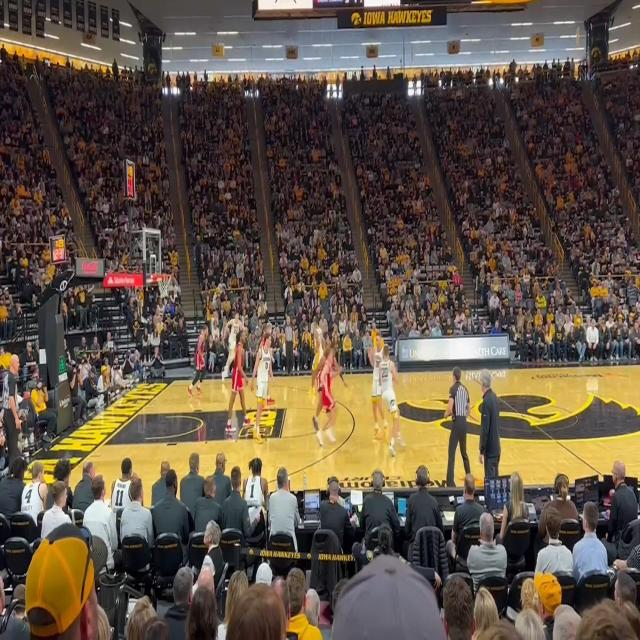Hoop: (156, 274, 172, 298)
Player: (311, 342, 347, 432), (378, 344, 406, 457), (250, 333, 275, 445), (225, 330, 250, 432), (368, 330, 390, 441), (316, 348, 336, 446), (221, 311, 245, 383), (187, 326, 207, 397), (259, 312, 275, 392), (308, 318, 324, 396), (251, 287, 264, 303)
Ref: (444, 366, 471, 486), (2, 354, 20, 476), (282, 316, 296, 378)
